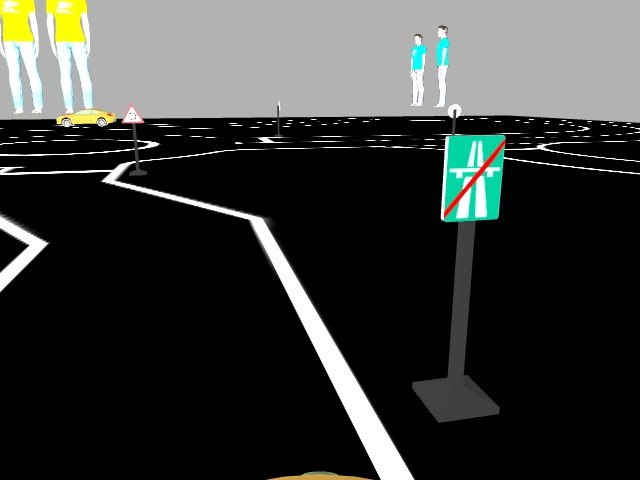HighwayExit: (442, 133, 501, 219)
